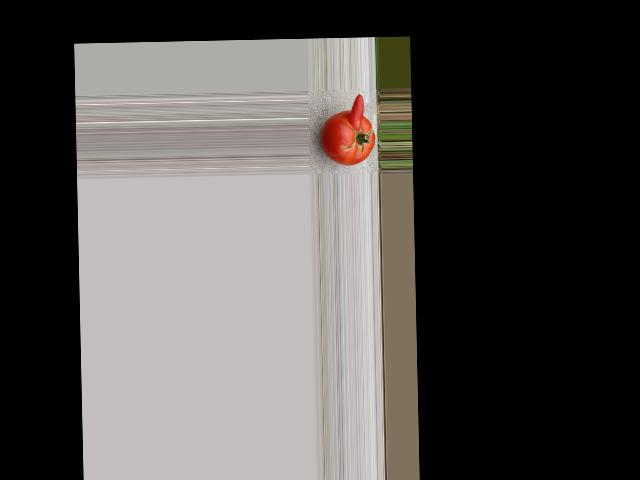tomato: (321, 110, 375, 166)
